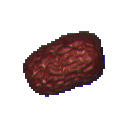gd: (14, 18, 122, 108)
